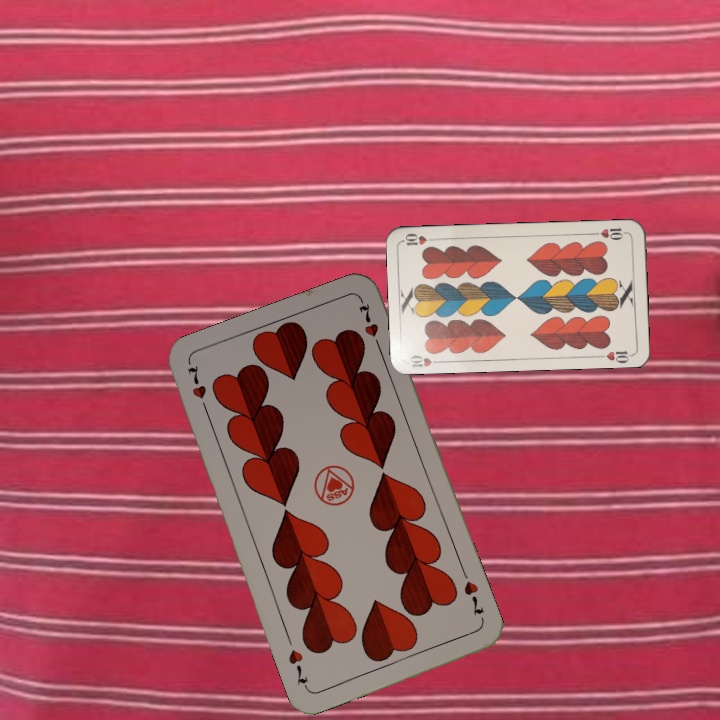H10: (406, 351, 445, 370), (589, 224, 630, 242)
H7: (184, 361, 212, 417), (460, 576, 487, 618)
